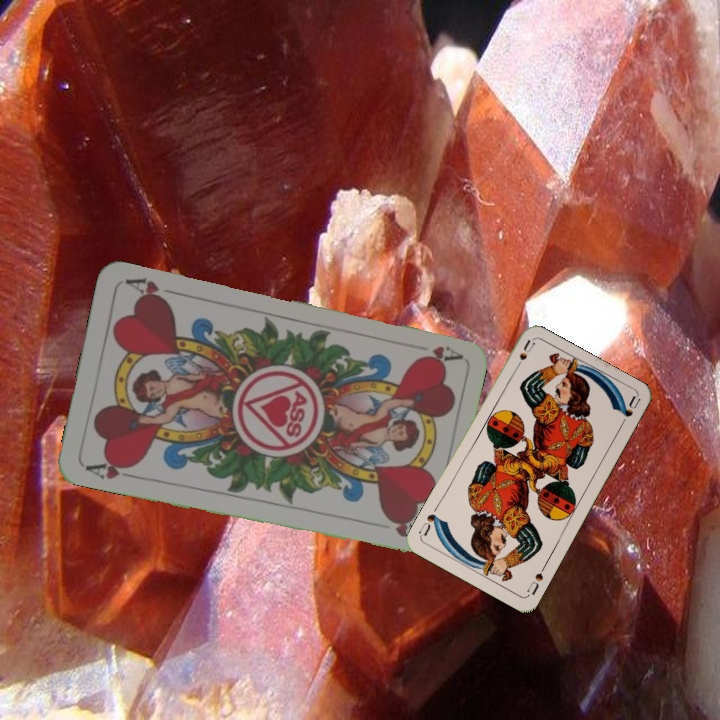HA: (81, 455, 140, 482), (413, 341, 463, 366)
SU: (510, 336, 538, 375), (523, 561, 549, 598)
